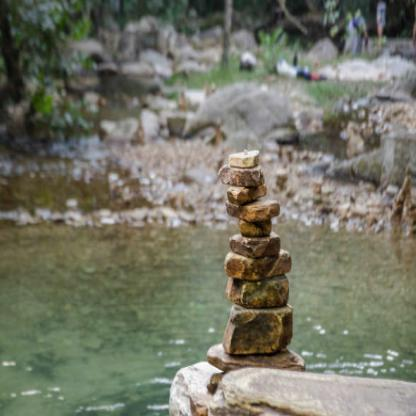Metamorphic_Quartize: (221, 243, 291, 289), (234, 186, 280, 228), (219, 146, 267, 172)
